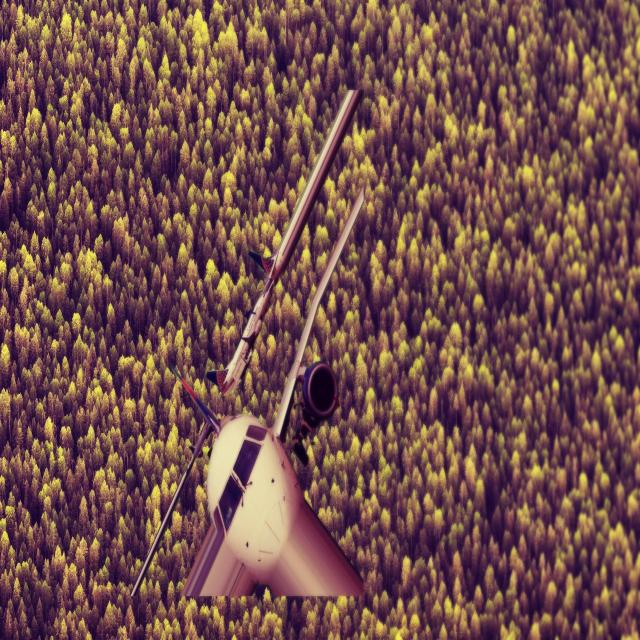airplane: (129, 86, 367, 601)
